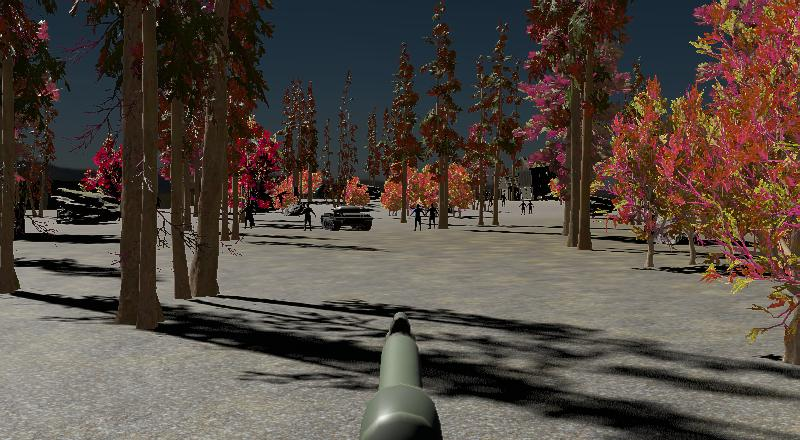Tank: (320, 203, 375, 233)
